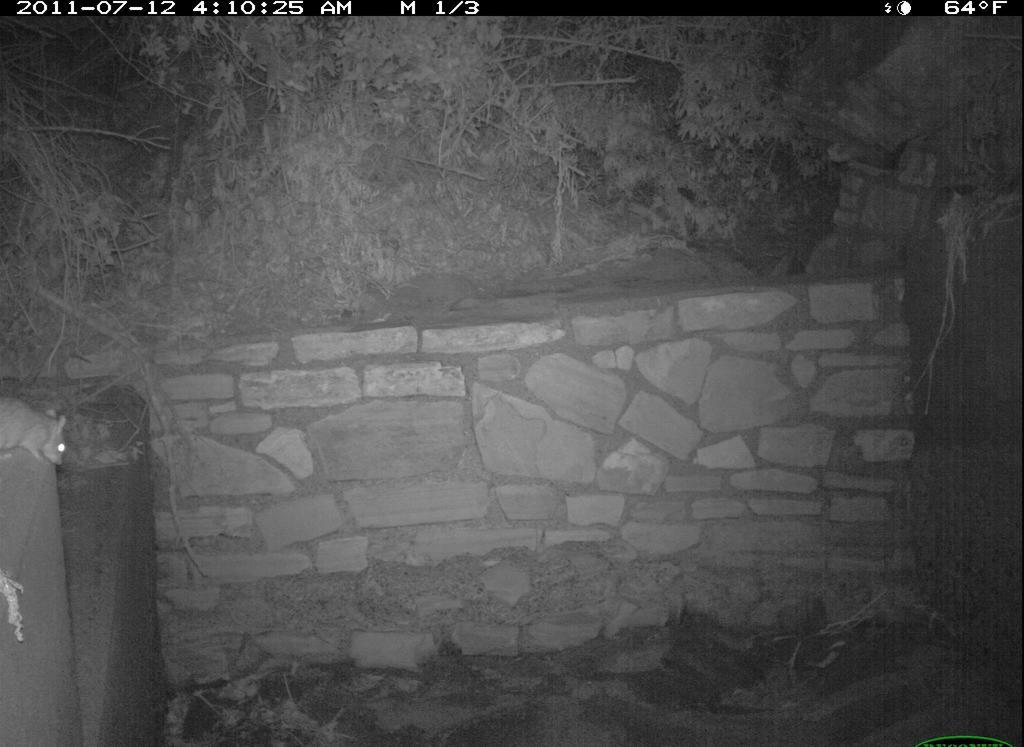rodent: (1, 392, 79, 473)
